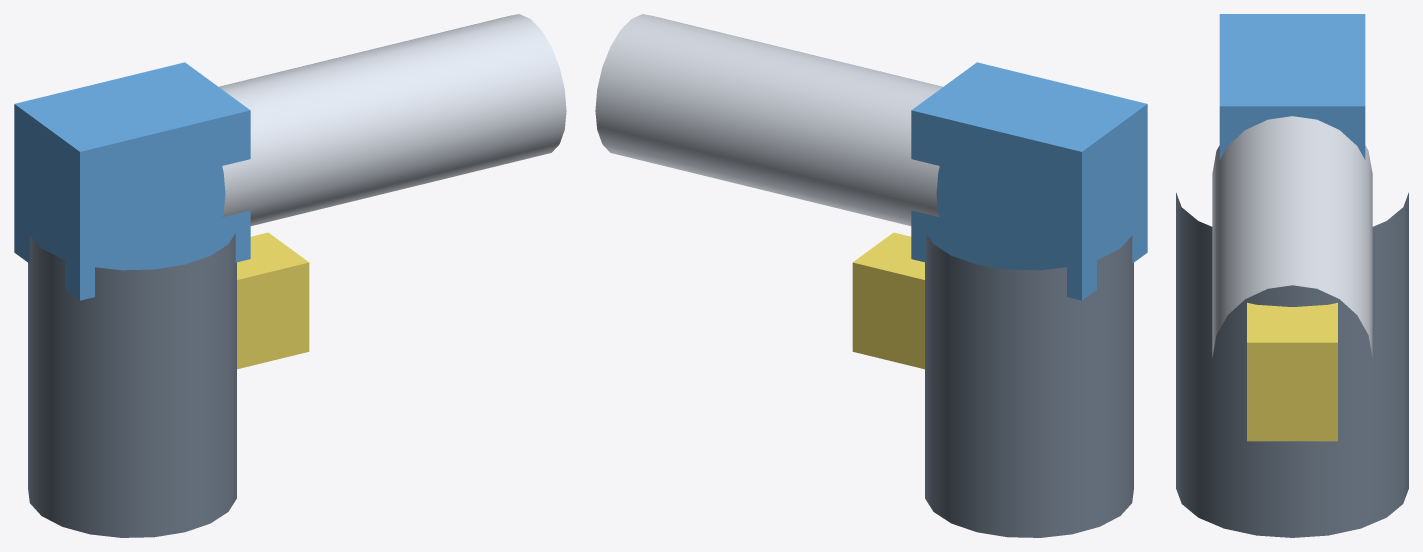
The model's file is hydro_pneumatic_circuits.glb.
The picture shows the model from 3 angles, left to right: view 1: azimuth 30°, elevation 25°; view 2: azimuth 150°, elevation 25°; view 3: azimuth 270°, elevation 25°; orthographic projection. The views are drawn at different scales.
Visible parts, largest first — view 1: HydroPneumaticPressureIntensifier, DoubleActingHydraulicCylinder, DirectionalControlValveBlock, FlowControlThrottleCheckValve; view 2: HydroPneumaticPressureIntensifier, DoubleActingHydraulicCylinder, DirectionalControlValveBlock, FlowControlThrottleCheckValve; view 3: HydroPneumaticPressureIntensifier, DoubleActingHydraulicCylinder, DirectionalControlValveBlock, FlowControlThrottleCheckValve.
Boxes of the visible parts, <box> form: HydroPneumaticPressureIntensifier: <box>28,233,236,537</box>; DoubleActingHydraulicCylinder: <box>219,14,566,225</box>; DirectionalControlValveBlock: <box>14,62,250,300</box>; FlowControlThrottleCheckValve: <box>237,232,309,369</box>; HydroPneumaticPressureIntensifier: <box>925,233,1133,537</box>; DoubleActingHydraulicCylinder: <box>595,14,942,225</box>; DirectionalControlValveBlock: <box>911,62,1147,300</box>; FlowControlThrottleCheckValve: <box>852,232,924,369</box>; HydroPneumaticPressureIntensifier: <box>1176,192,1408,537</box>; DoubleActingHydraulicCylinder: <box>1212,116,1372,357</box>; DirectionalControlValveBlock: <box>1219,14,1365,159</box>; FlowControlThrottleCheckValve: <box>1247,302,1337,441</box>.
Size of the model in its own units: 1.72 by 1.3 by 0.64.
